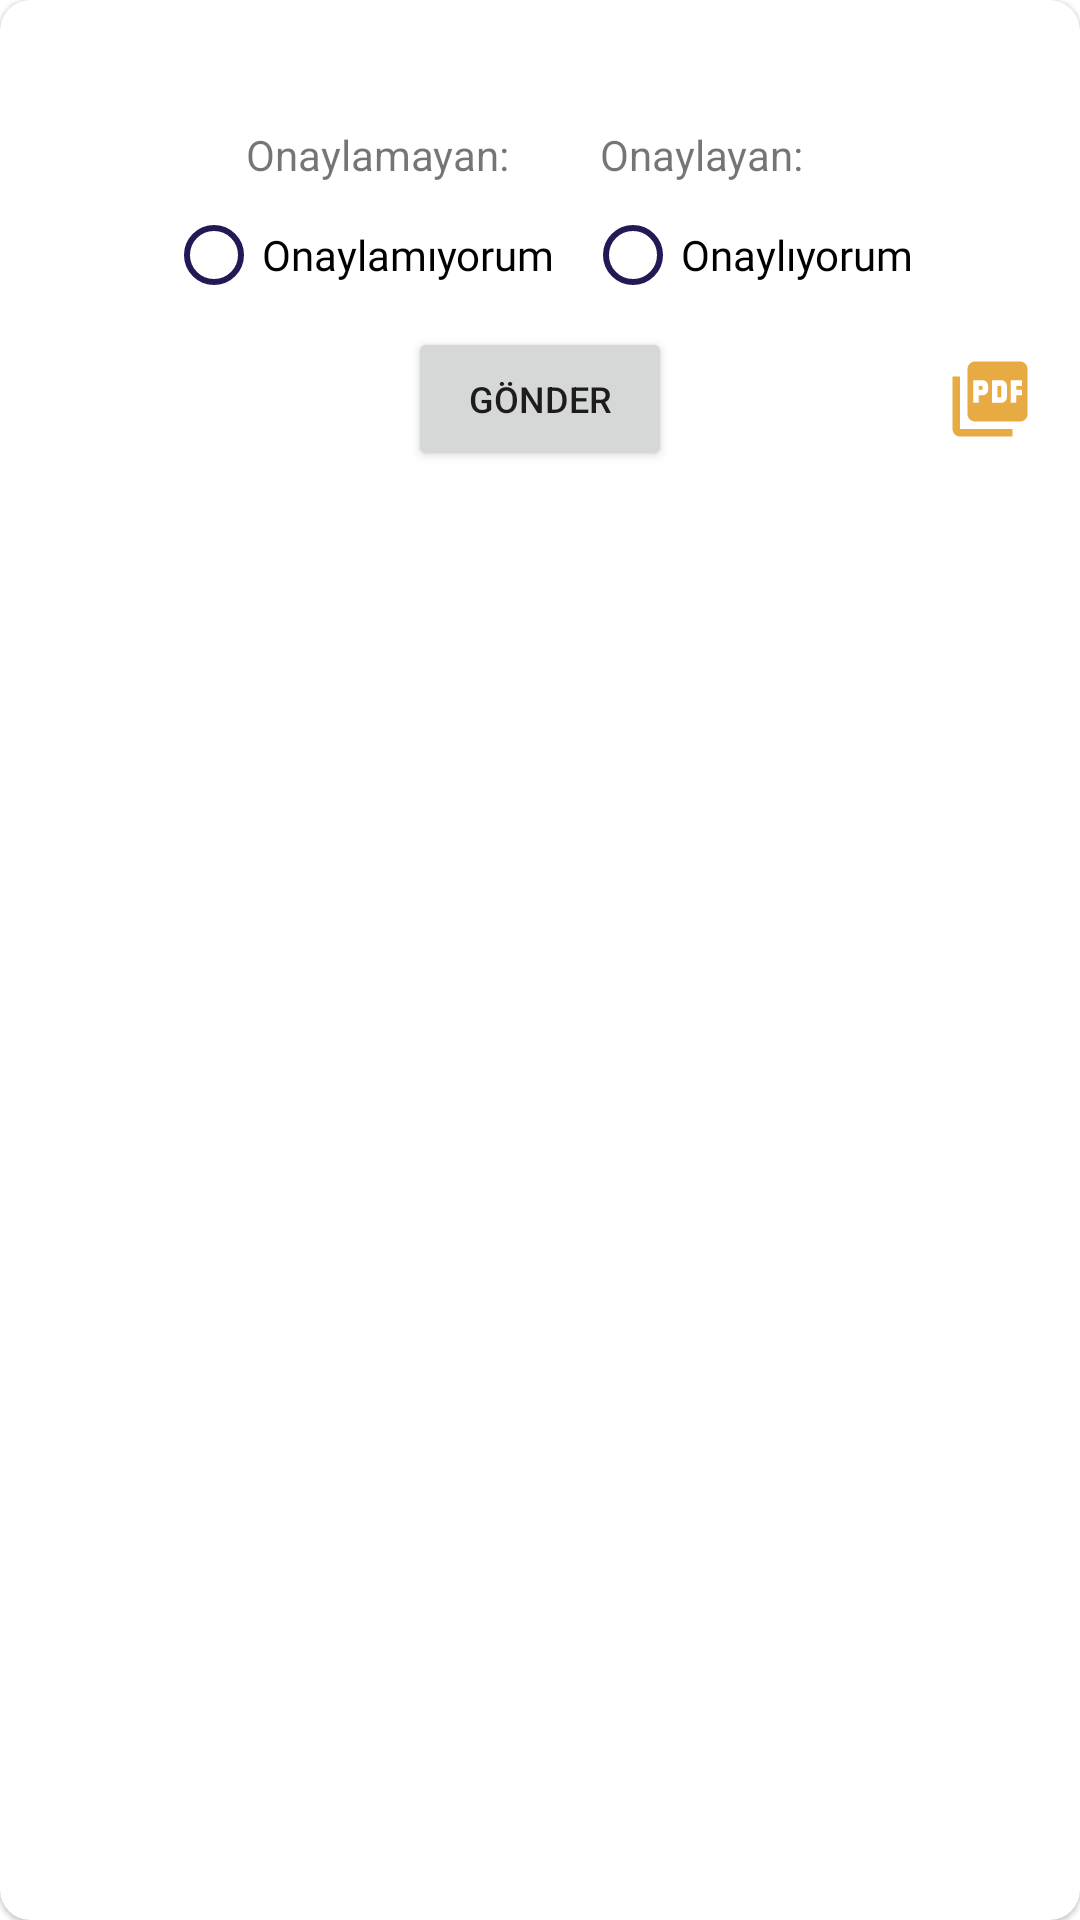

Screen size 1080px×1920px. Icon name, then its box in pixels as (x1, y1, x2, y2):
picture as pdf: (952, 361, 1028, 437)
